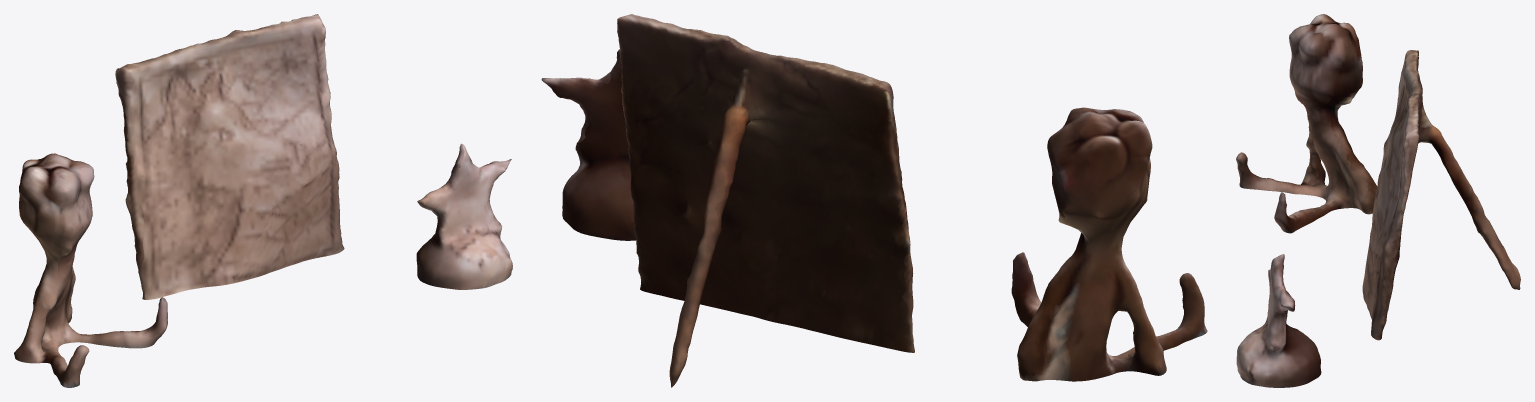
File: Rachid.glb
3 renders of one model, left to right at view 1: azimuth 30°, elevation 25°; view 2: azimuth 150°, elevation 25°; view 3: azimuth 270°, elevation 25°, orthographic. The views are drawn at different scales.
Parts seen in each view (by area): view 1: mesh.001; view 2: mesh.001; view 3: mesh.001.
Part boxes in pixels (x1,y1,x2,y2): mesh.001: (14,14,512,387); mesh.001: (541,14,1207,387); mesh.001: (1236,14,1520,387).
Size of the model in its own units: 0.2544 by 0.1129 by 0.1413.
1 material, 1 textured.
